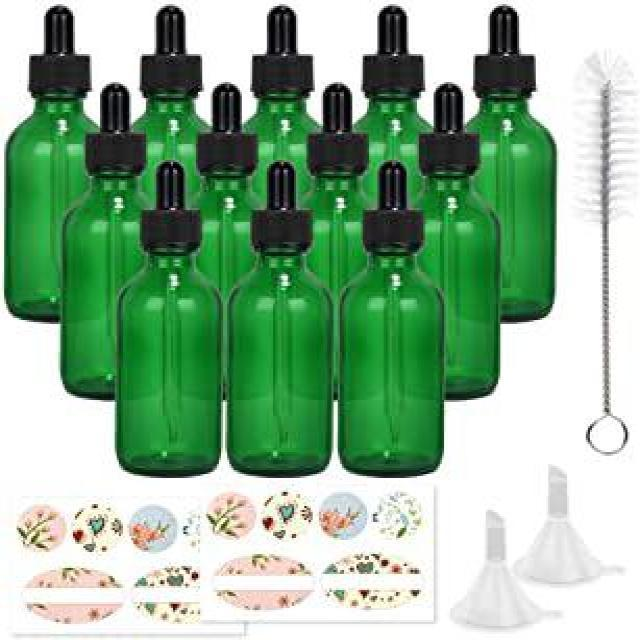glass: (110, 158, 226, 480)
